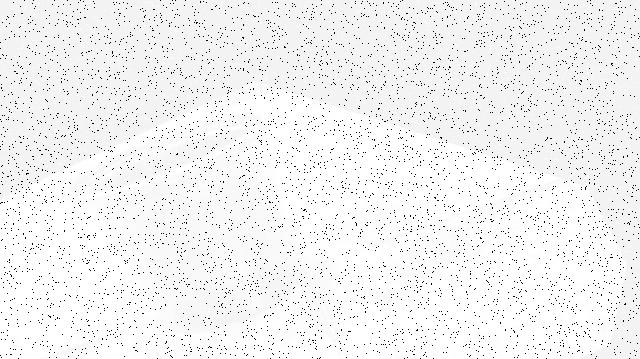pot: (61, 106, 303, 331)
